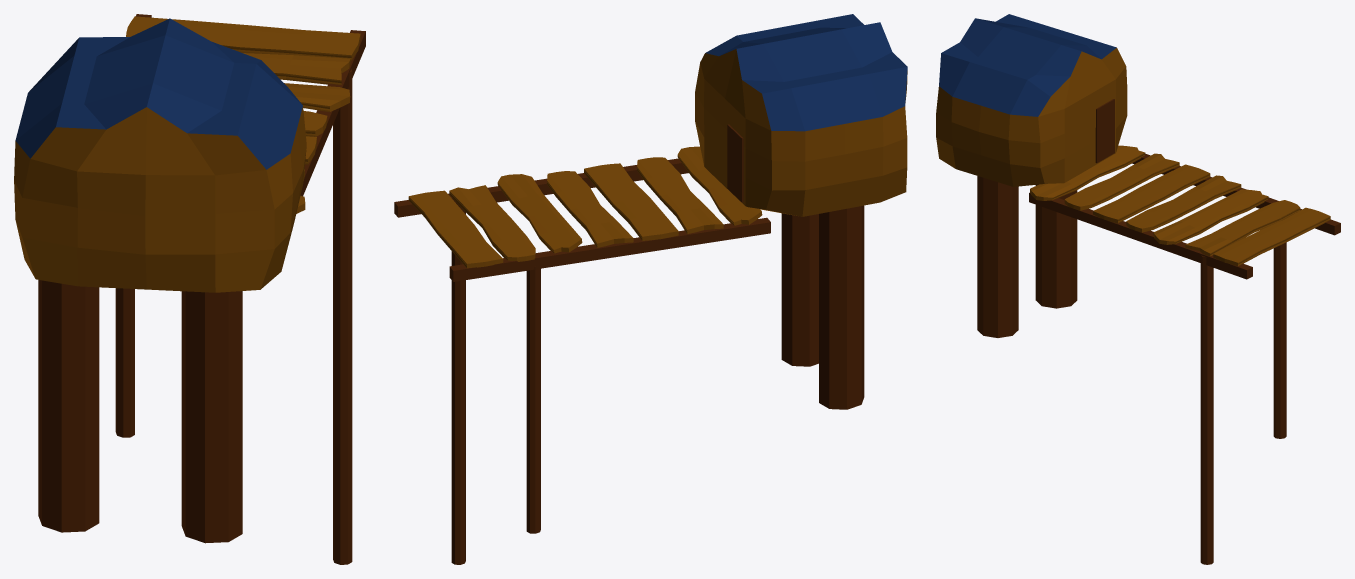
Rendered from shack.fbx.
3 renders of one model, left to right at view 1: azimuth 30°, elevation 25°; view 2: azimuth 150°, elevation 25°; view 3: azimuth 270°, elevation 25°, orthographic. The views are drawn at different scales.
Visible parts, largest first — view 1: shack; view 2: shack; view 3: shack.
Boxes of the visible parts, x1,y1,x2,y2 form: shack: (14, 14, 365, 564); shack: (394, 14, 907, 564); shack: (936, 14, 1340, 564).
Bounding box in the file's own units: 1370 × 1730 × 1484.
